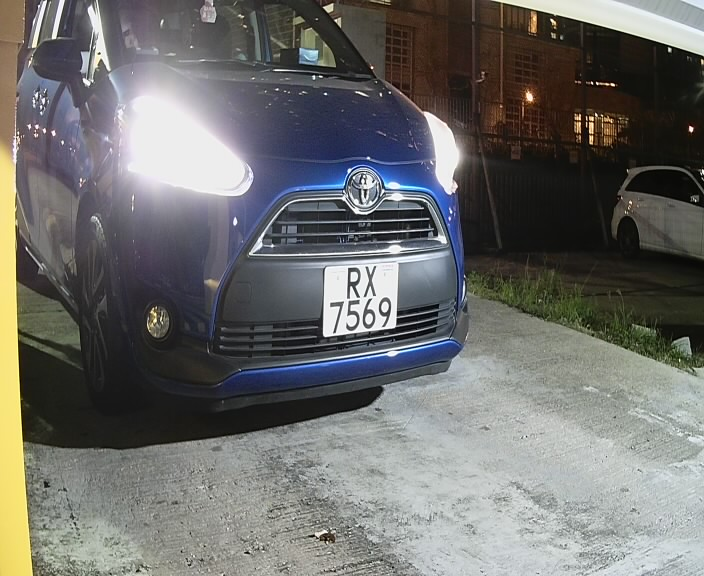License Plate: (321, 257, 404, 346)
